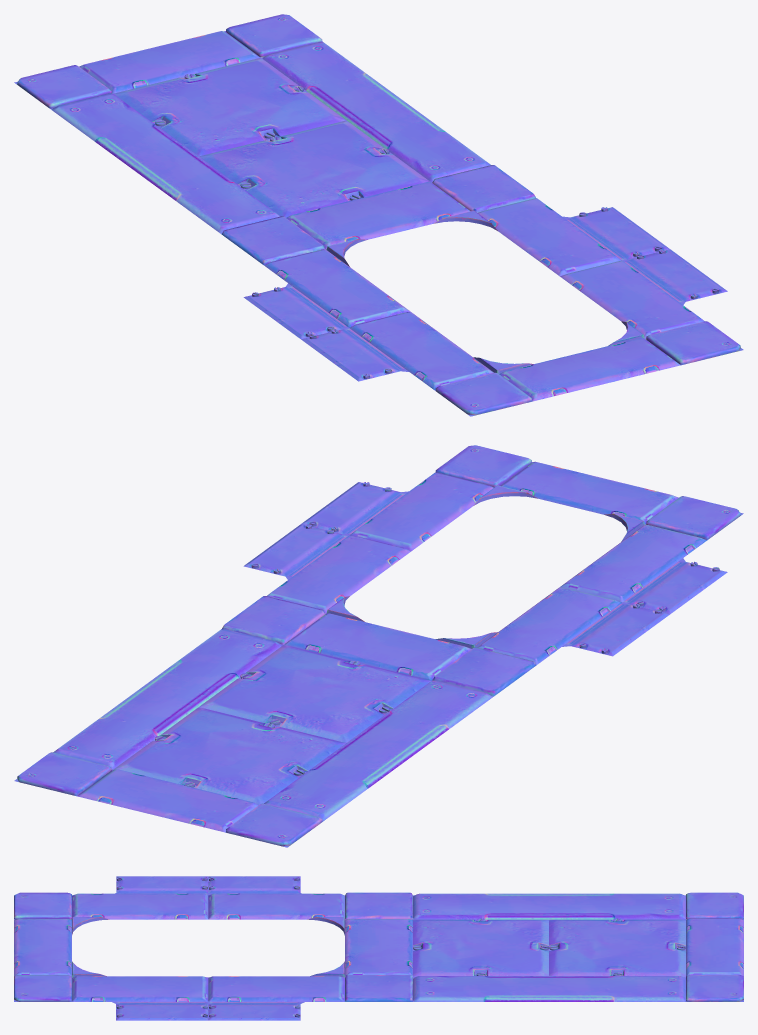
The model's file is Building_B_Staircase_B_Floor_A.fbx.
3 views of the same model, one above another, from view 1: azimuth 30°, elevation 25°; view 2: azimuth 150°, elevation 25°; view 3: azimuth 270°, elevation 25° (orthographic). The views are drawn at different scales.
Visible parts, largest first — view 1: Geom_Building_B_Staircase_B_Floor_A_LOD00; view 2: Geom_Building_B_Staircase_B_Floor_A_LOD00; view 3: Geom_Building_B_Staircase_B_Floor_A_LOD00.
Part boxes in pixels (x1,y1,x2,y2): Geom_Building_B_Staircase_B_Floor_A_LOD00: (14,14,743,416); Geom_Building_B_Staircase_B_Floor_A_LOD00: (14,445,743,847); Geom_Building_B_Staircase_B_Floor_A_LOD00: (14,876,743,1020).
Size of what is drawn, in the model's own units: 1000 by 16.39 by 2140.
